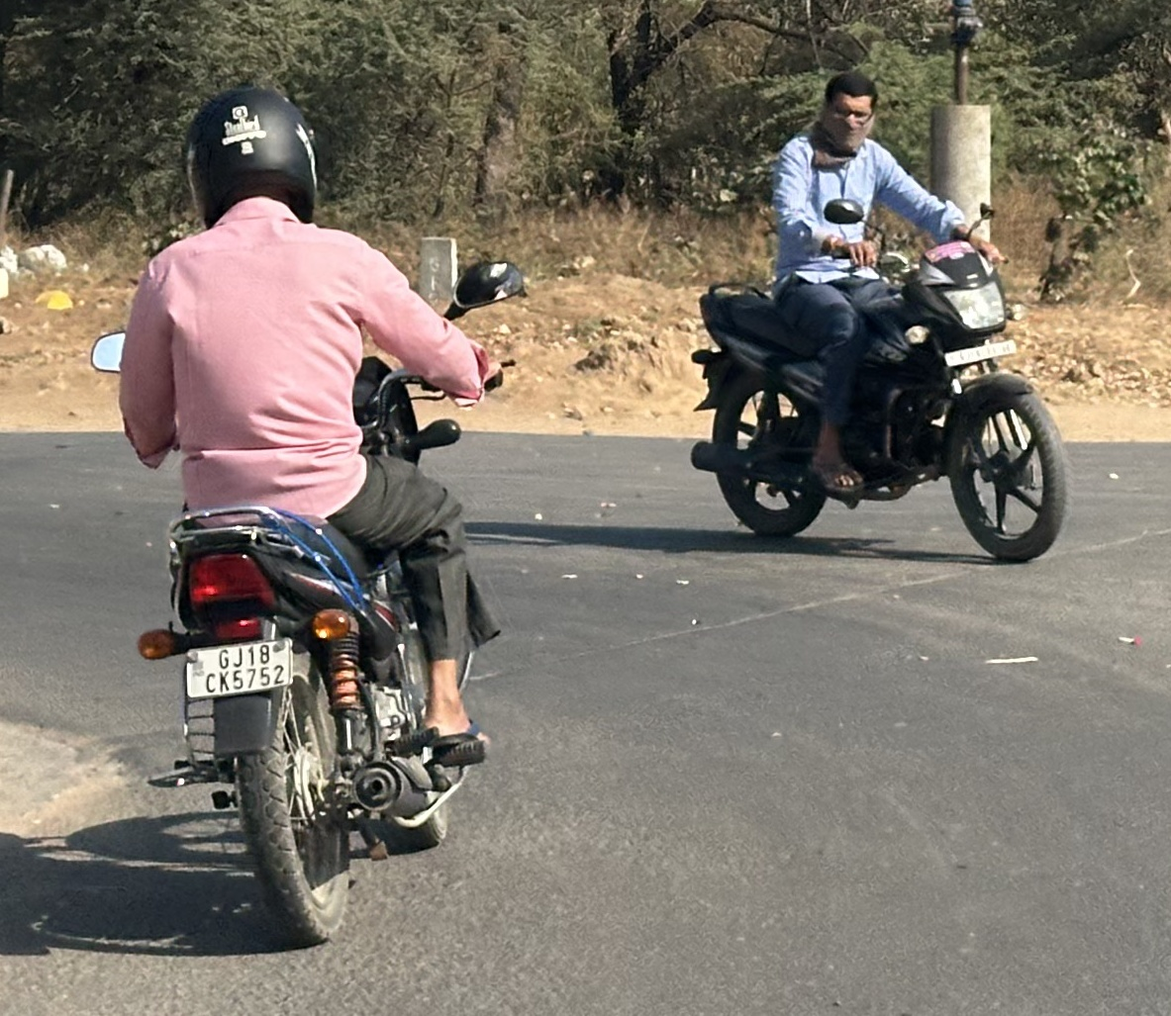BikeWithRider: (78, 73, 537, 960), (675, 60, 1083, 570)
Helmet: (167, 73, 338, 237)
NoHelmet: (804, 63, 895, 158)
